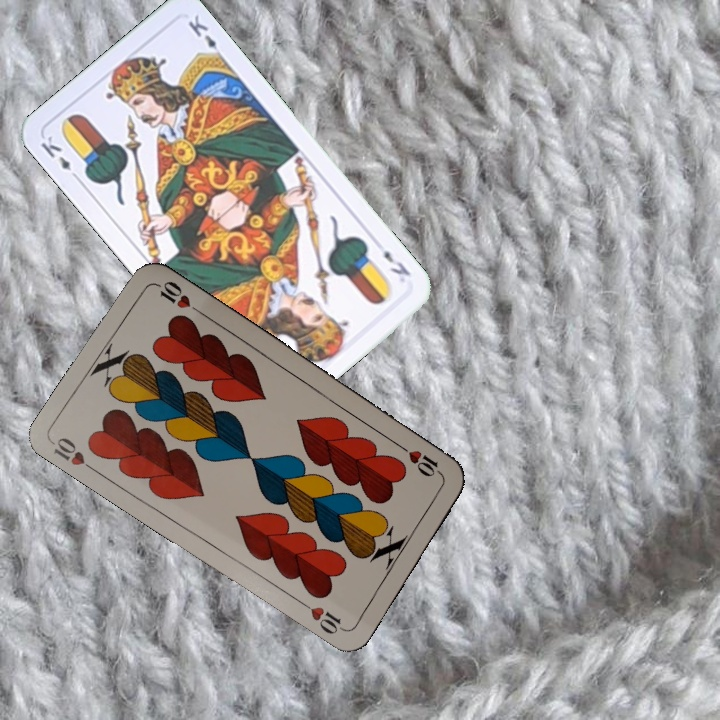EK: (37, 132, 83, 184), (379, 246, 414, 279)
H10: (49, 433, 101, 476), (394, 440, 446, 480)
